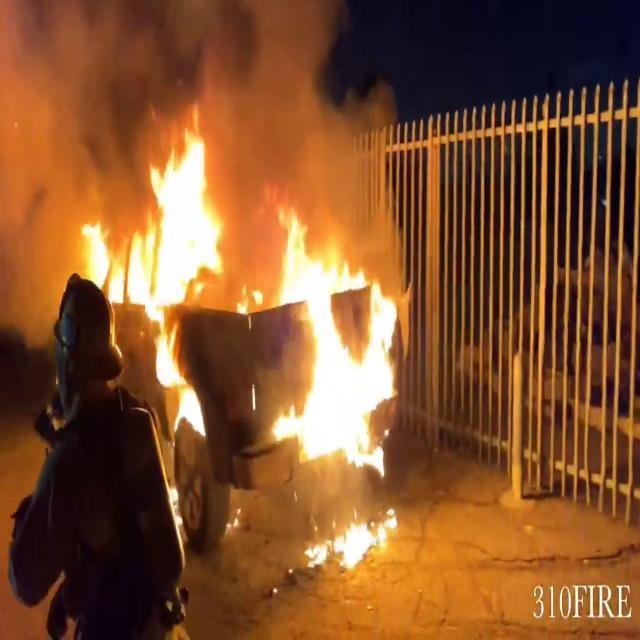Fire: (87, 124, 231, 400), (266, 206, 406, 472)
Smoke: (1, 0, 393, 206), (0, 0, 164, 340)
